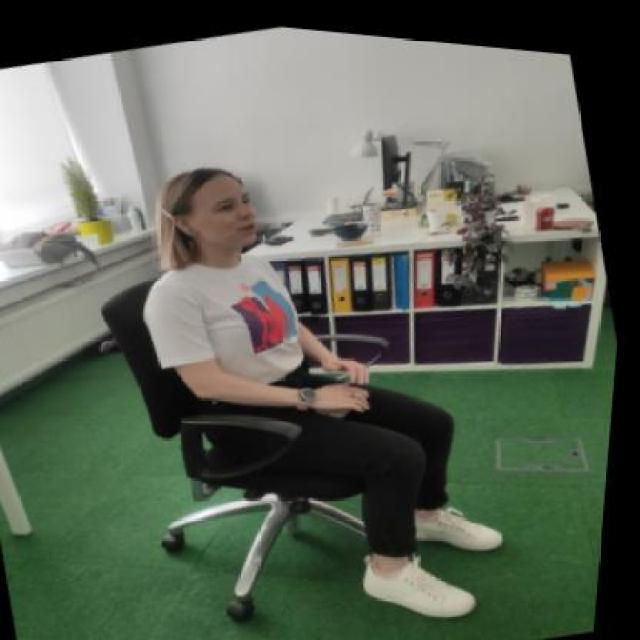chair: (72, 214, 483, 638)
